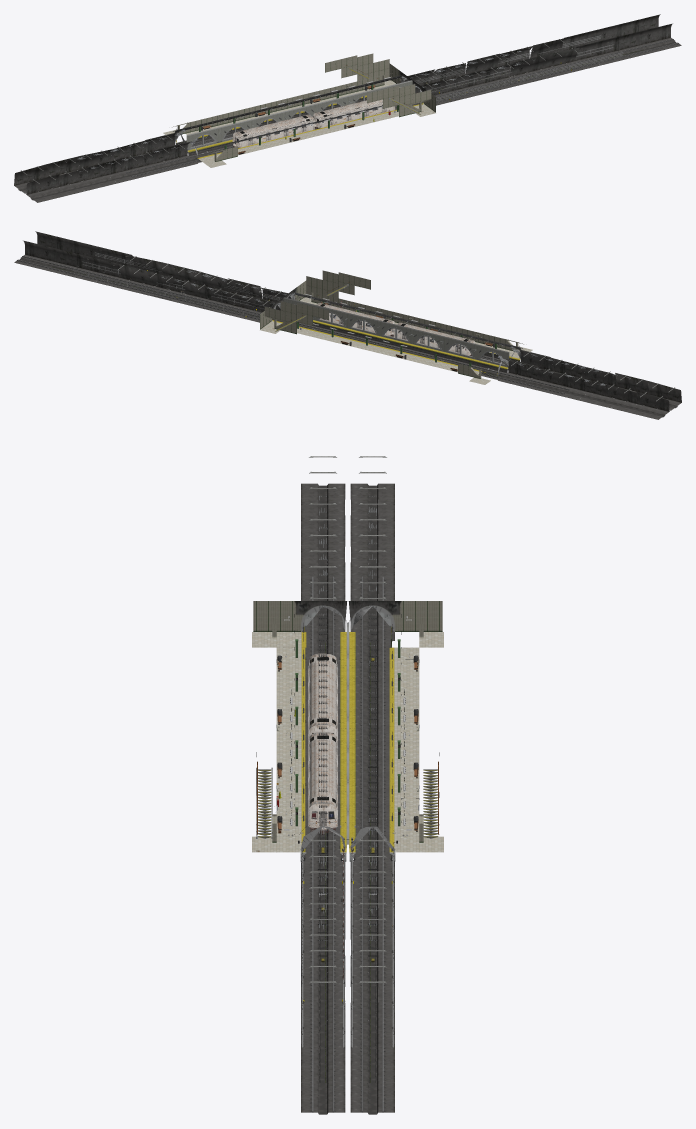
Rendered from station-cinematic.glb.
3 renders of one model, top to bottom at view 1: azimuth 30°, elevation 25°; view 2: azimuth 150°, elevation 25°; view 3: azimuth 270°, elevation 25°, orthographic. The views are drawn at different scales.
Visible parts, largest first — view 1: TunelModular_LP.003, TunelModular_LP.008, TunelModular_LP.002, TunelModular_LP.001, TunelModular_LP, PortaCables_LP, Vias_LP, TunelModular_LP.007, TunelModular_LP.006, TunelModular_LP.005, ParedModularAlternativa_LP, ParedTunel_LP (+15 smaller); view 2: TunelModular_LP.003, TunelModular_LP.008, TunelModular_LP.002, TunelModular_LP.001, TunelModular_LP, Vias_LP, PortaCables_LP, TunelModular_LP.007, TunelModular_LP.006, TunelModular_LP.005, ParedModularAlternativa_LP, ParedTunel_LP (+19 smaller); view 3: Vias_LP, ParedTunel_LP, SueloViasTunel_LP.009, SueloViasTunel_LP.005, SueloViasTunel_LP.008, SueloViasTunel_LP.004, SueloViasTunel_LP.006, SueloViasTunel_LP.007, SueloViasTunel_LP.003, SueloViasTunel_LP, CableLateralVias2_LP.001, SujetaTubos_LP (+14 smaller).
Boxes of the visible parts, left/top/right/bottom form: TunelModular_LP.003: left=46, top=45, right=545, bottom=186; TunelModular_LP.008: left=14, top=38, right=579, bottom=194; TunelModular_LP.002: left=78, top=53, right=513, bottom=178; TunelModular_LP.001: left=110, top=63, right=480, bottom=170; TunelModular_LP: left=143, top=69, right=446, bottom=163; PortaCables_LP: left=414, top=35, right=623, bottom=100; Vias_LP: left=126, top=39, right=678, bottom=177; TunelModular_LP.007: left=626, top=14, right=672, bottom=45; TunelModular_LP.006: left=594, top=22, right=640, bottom=53; TunelModular_LP.005: left=562, top=30, right=608, bottom=60; ParedModularAlternativa_LP: left=172, top=73, right=428, bottom=161; ParedTunel_LP: left=175, top=63, right=435, bottom=157; TunelModular_LP.003: left=151, top=262, right=649, bottom=403; TunelModular_LP.008: left=119, top=256, right=681, bottom=411; TunelModular_LP.002: left=184, top=270, right=617, bottom=395; TunelModular_LP.001: left=214, top=278, right=585, bottom=387; TunelModular_LP: left=248, top=287, right=552, bottom=380; Vias_LP: left=17, top=256, right=569, bottom=394; PortaCables_LP: left=72, top=252, right=281, bottom=317; TunelModular_LP.007: left=23, top=231, right=69, bottom=262; TunelModular_LP.006: left=55, top=239, right=101, bottom=270; TunelModular_LP.005: left=87, top=247, right=133, bottom=277; ParedModularAlternativa_LP: left=267, top=290, right=523, bottom=378; ParedTunel_LP: left=260, top=280, right=520, bottom=374; Vias_LP: left=310, top=576, right=385, bottom=1112; ParedTunel_LP: left=253, top=601, right=442, bottom=852; SueloViasTunel_LP.009: left=301, top=483, right=394, bottom=1020; SueloViasTunel_LP.005: left=301, top=546, right=394, bottom=957; SueloViasTunel_LP.008: left=301, top=499, right=394, bottom=1004; SueloViasTunel_LP.004: left=301, top=562, right=394, bottom=941; SueloViasTunel_LP.006: left=301, top=531, right=394, bottom=972; SueloViasTunel_LP.007: left=301, top=515, right=394, bottom=988; SueloViasTunel_LP.003: left=301, top=578, right=394, bottom=925; SueloViasTunel_LP: left=301, top=625, right=394, bottom=878; CableLateralVias2_LP.001: left=319, top=643, right=376, bottom=1082; SujetaTubos_LP: left=309, top=456, right=386, bottom=983.
Size of the model in its own units: 200 by 10.91 by 27.29.
Materials: 59 (58 with a texture image).
